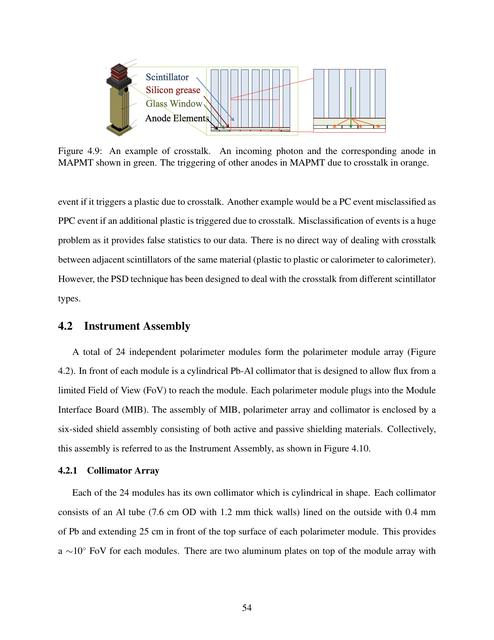box: (105, 55, 389, 141)
